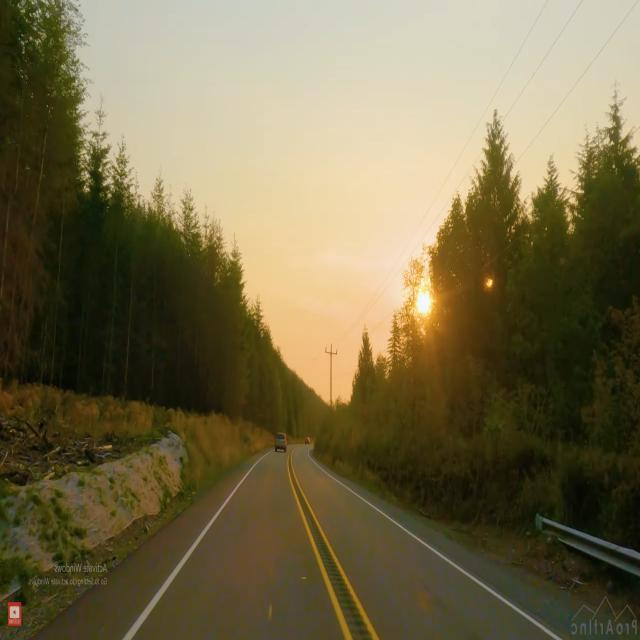sun: (409, 279, 439, 325)
